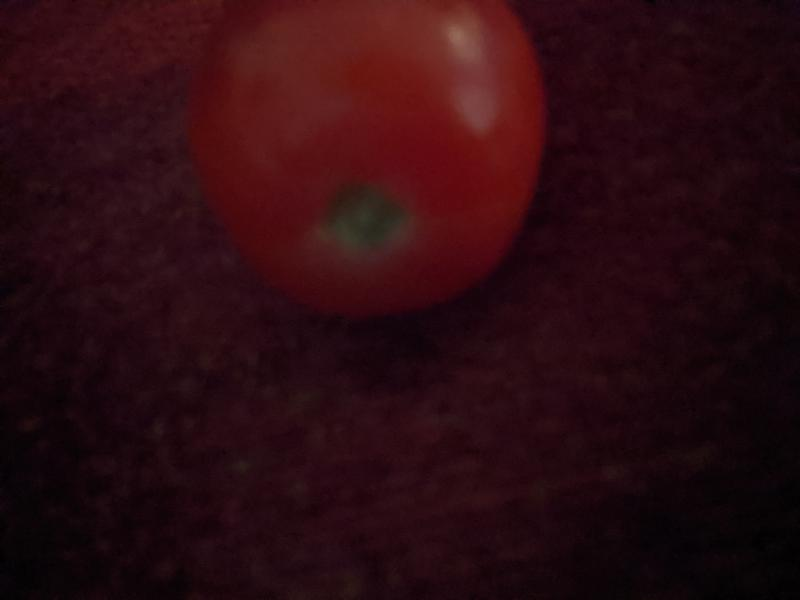tomato: (185, 1, 550, 316)
